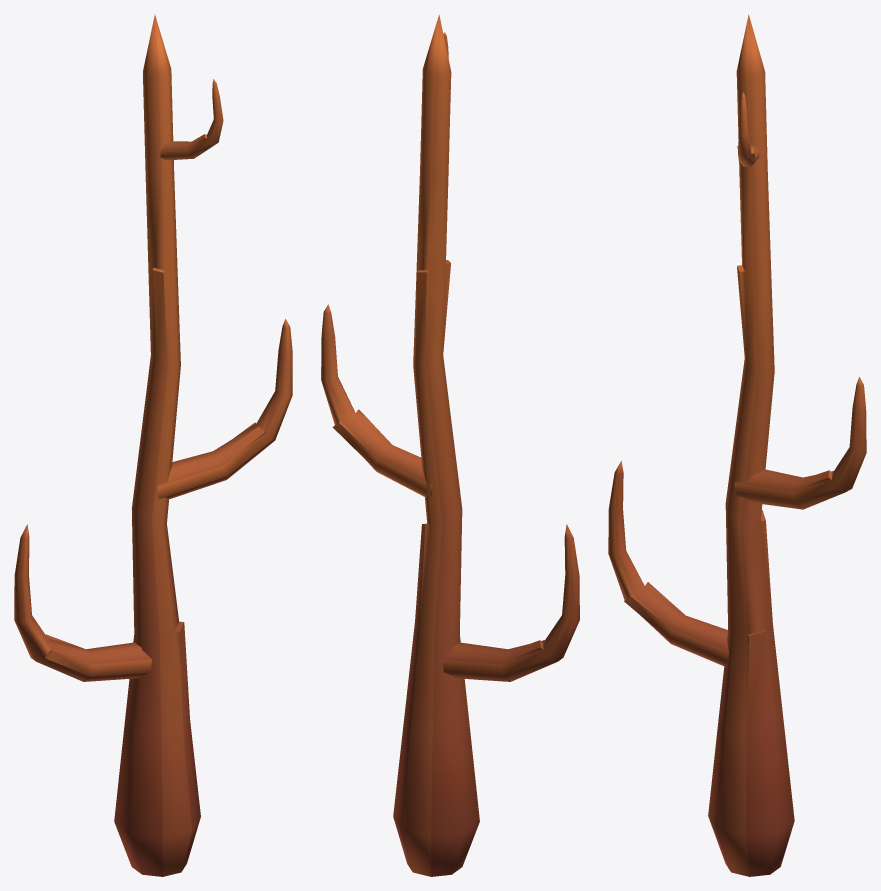
Rendered from tree_bare_2_b_color1.glb.
3 views of the same model, side by side, from view 1: azimuth 30°, elevation 25°; view 2: azimuth 150°, elevation 25°; view 3: azimuth 330°, elevation 25° (orthographic).
Parts seen in each view (by area): view 1: Tree_Bare_2_B_Color1; view 2: Tree_Bare_2_B_Color1; view 3: Tree_Bare_2_B_Color1.
Boxes of the visible parts, box(x1,y1,x2,y2) form: Tree_Bare_2_B_Color1: box(14, 14, 292, 876); Tree_Bare_2_B_Color1: box(321, 14, 579, 876); Tree_Bare_2_B_Color1: box(608, 14, 866, 876).
Size of the model in its own units: 1.79 by 5.54 by 0.6636.
1 material, 1 textured.
